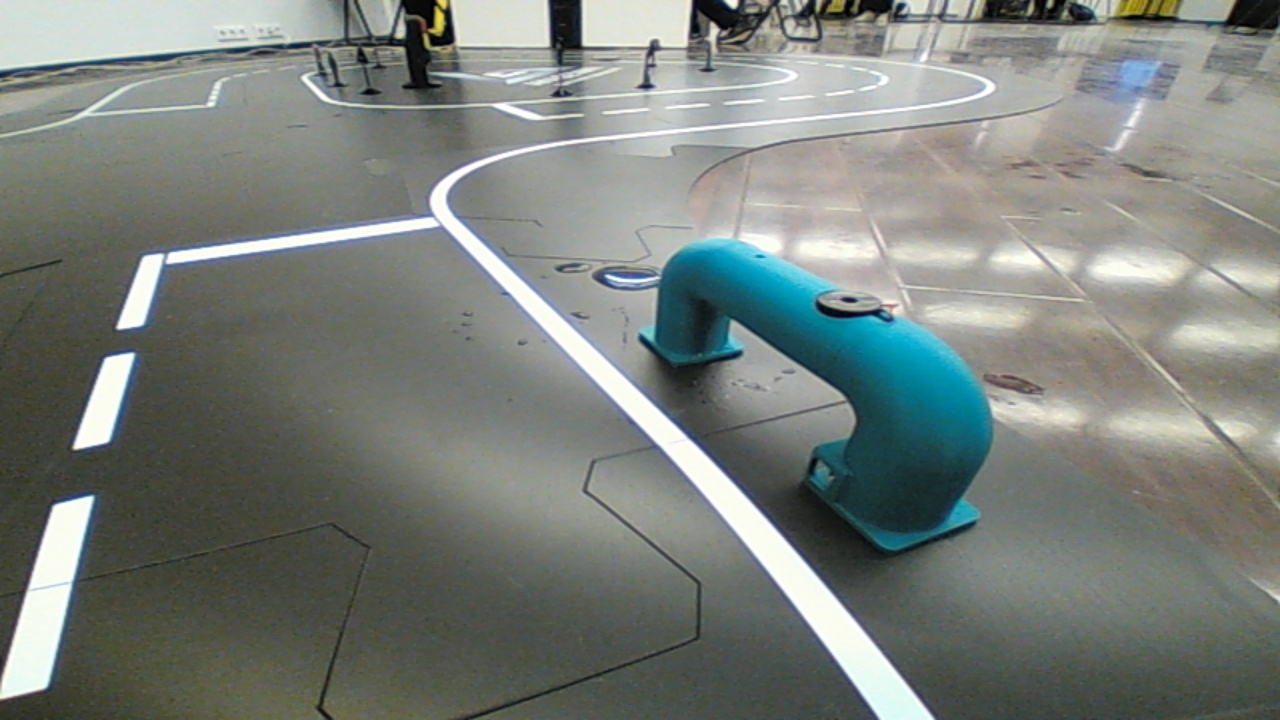Pedestrian crossing: (642, 225, 1003, 563)
